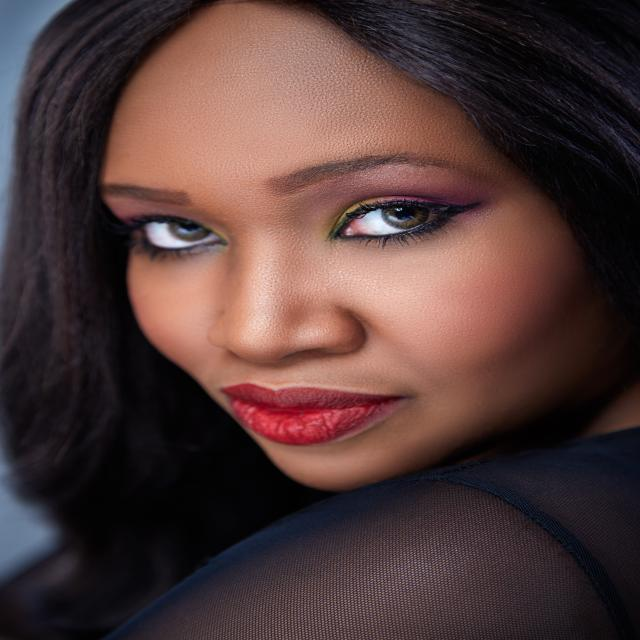others: (0, 1, 133, 85)
